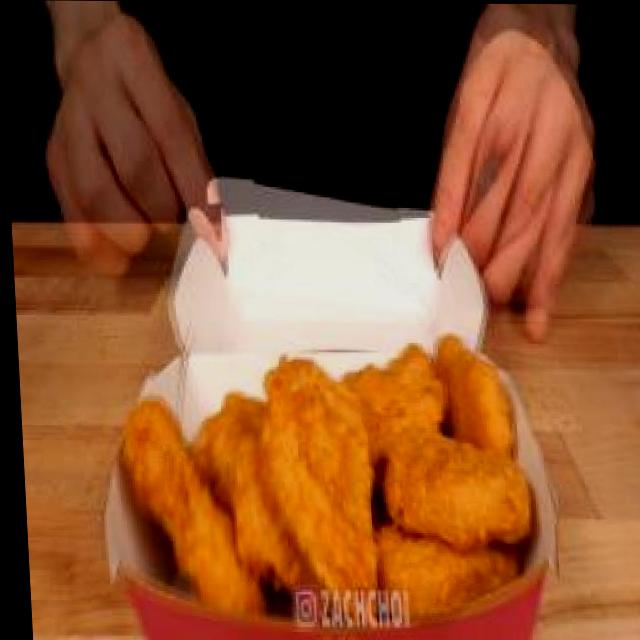nugget: (107, 306, 536, 631)
